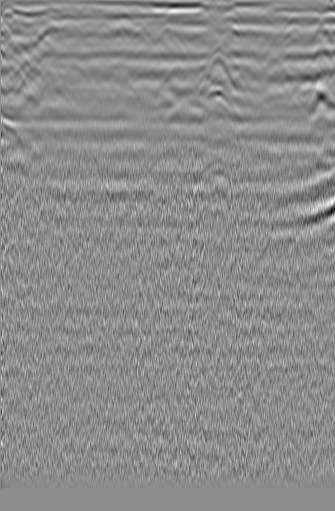가스: (192, 157, 234, 185)
상수: (1, 27, 31, 54)
오수: (277, 25, 306, 50)
우수: (130, 22, 157, 51)
